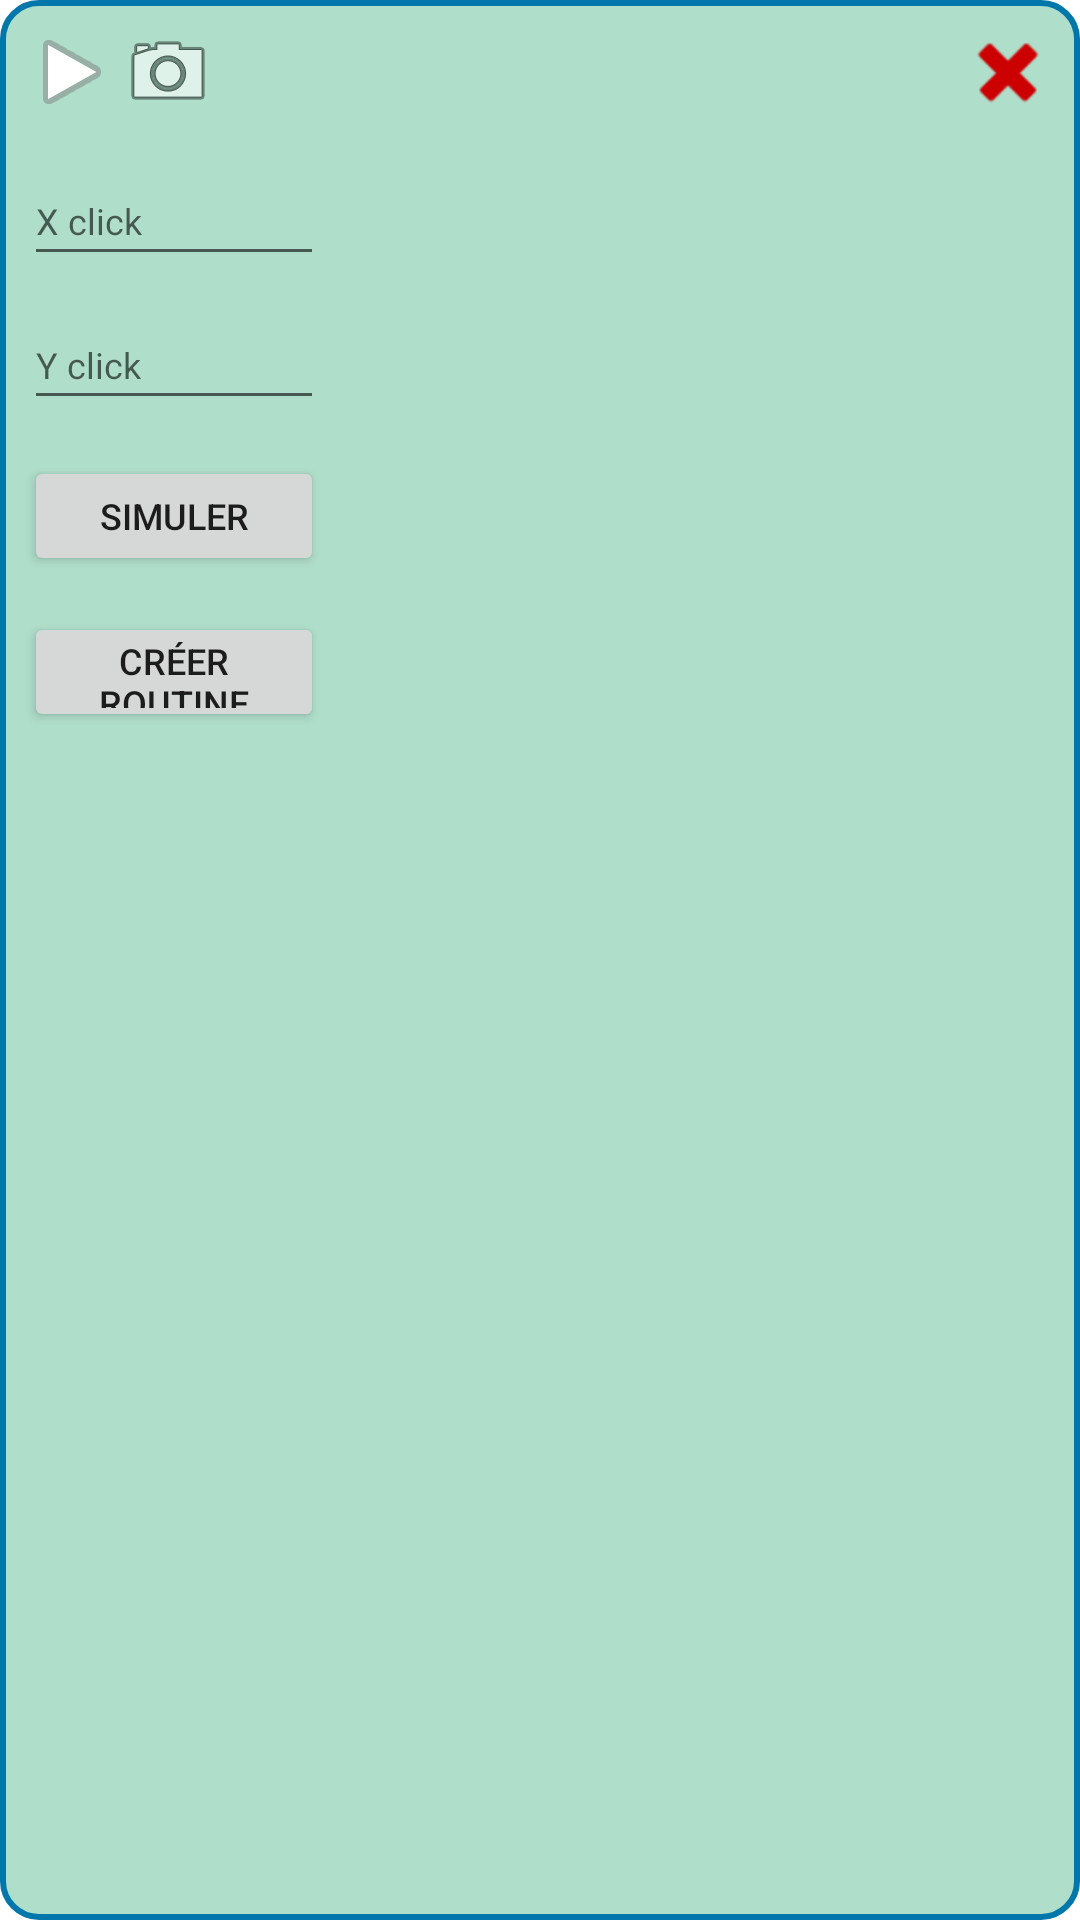

Named icons in this screenshot (1080w x 1920h) and their bounding boxes, (x1, y1, x2, y2):
delete: (977, 43, 1039, 102)
Prendre une photo: (131, 41, 205, 100)
